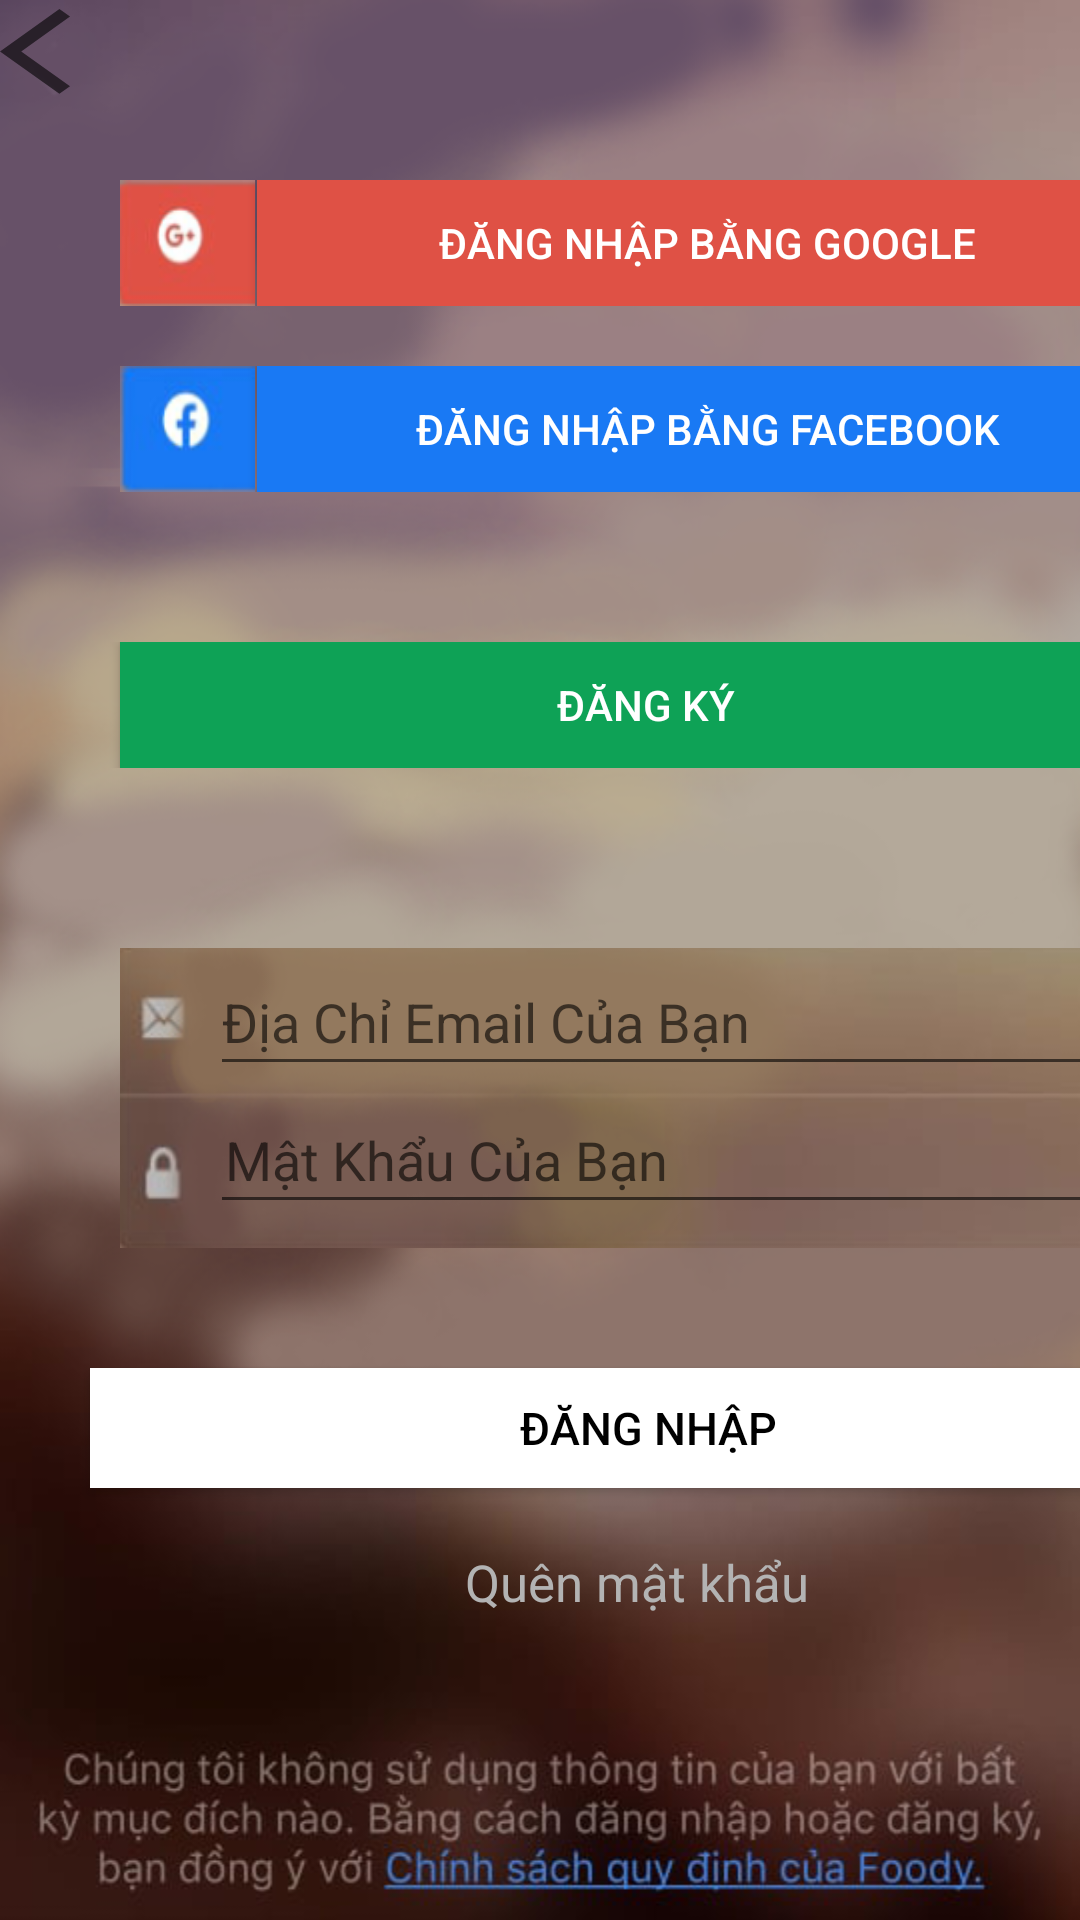

Screen size 1080px x 1920px. Icon name, then its box in pixels as (x1, y1, x2, y2):
back: (0, 9, 70, 94)
